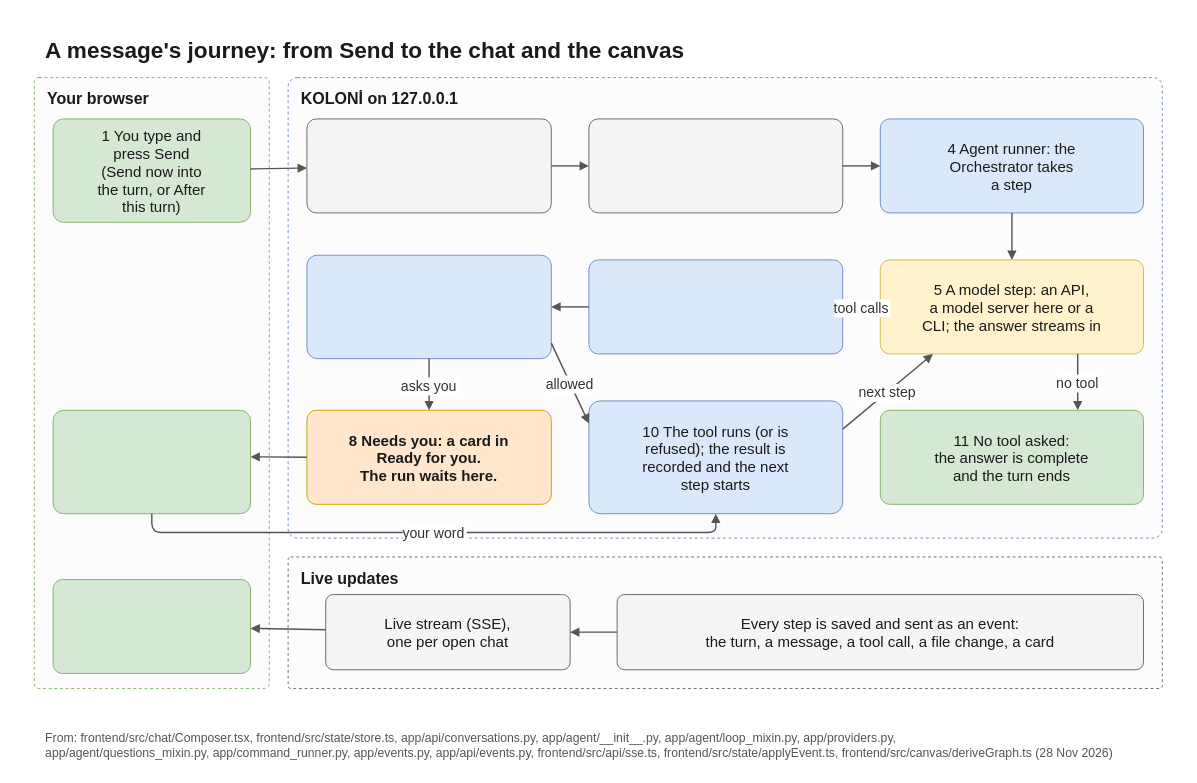
Image size: 1197x783. Some labels were removed from this diagram. Here are the shapes that lost their labels. From the top down, the box of each, then its label:
(306, 118, 551, 213): 2 REST: POST the message to the chat (with the page key)
(588, 118, 843, 213): 3 It records the turn and your message, then starts the run
(306, 254, 551, 359): 7 Permission check: your permission level, a working copy or the project itself
(588, 259, 843, 354): 6 It asks for a tool: read, write, run a command, search the web, open an agent
(52, 409, 251, 514): 9 You answer: Approve / Reject, Run once, an answer; REST: POST it
(52, 579, 251, 674): 12 The page updates the chat and draws the canvas
